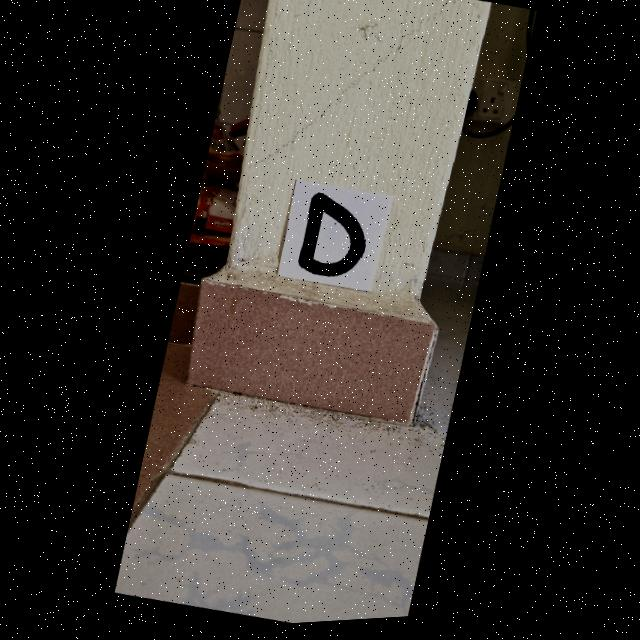D: (297, 196, 364, 280)
